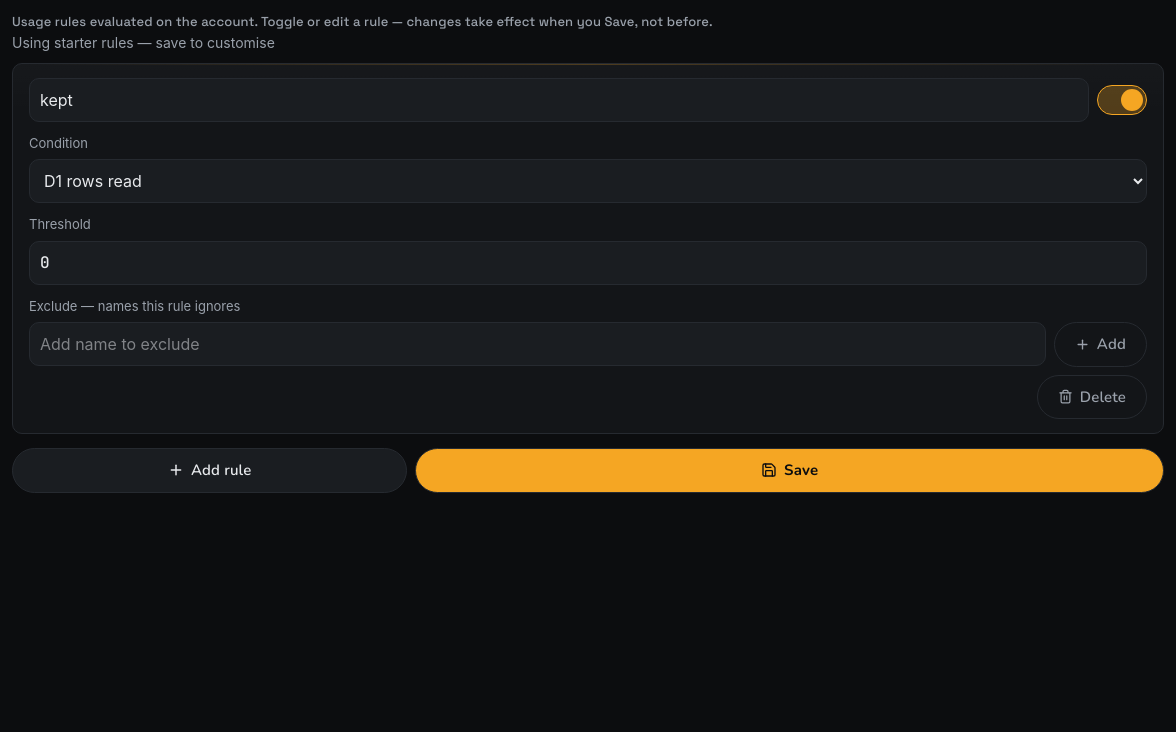
Test: RulesView (P-06) › the starter note shows for the starter set and clears on save
The image size is (1176, 732).
Expected: the text with class "cf-rule-note" reads "Using starter rules — save to customise", [12, 34, 275, 50]
Click the button with class "cf-btn-primary": (790, 470) [415, 448, 1164, 492]
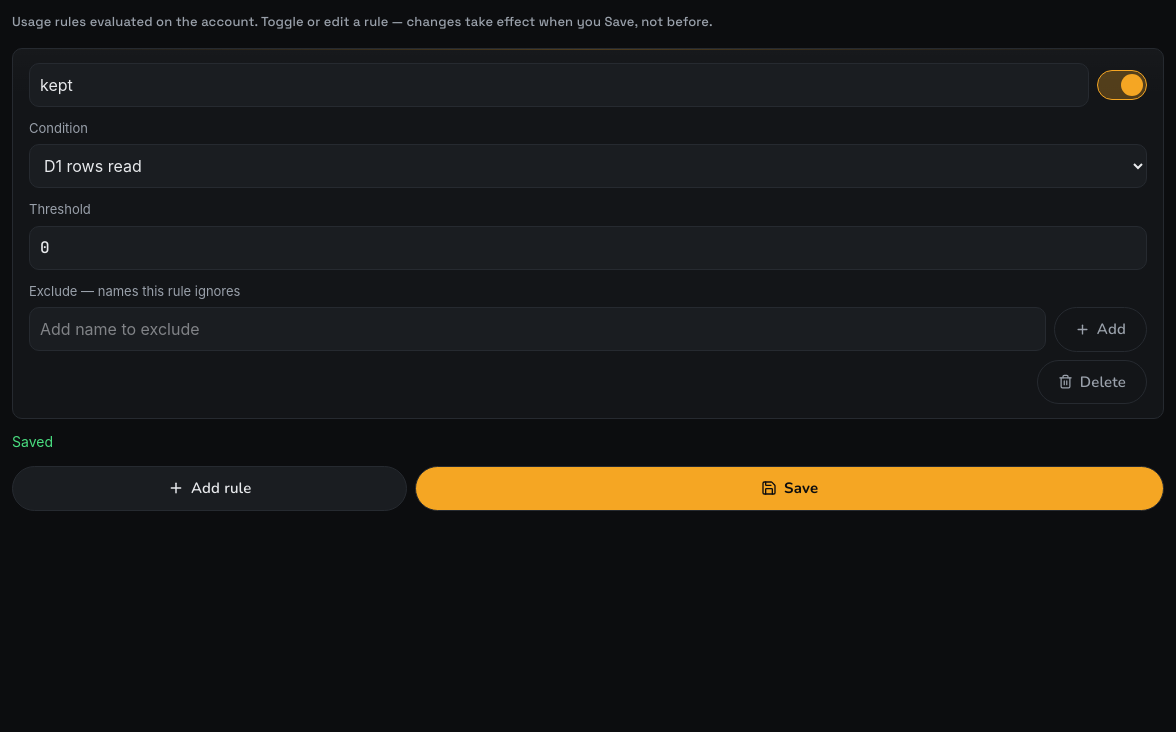
Expected: the text with class "cf-save-status" reads "Saved", [12, 433, 53, 450]
Expected: the text with class "cf-rule-note" is gone
